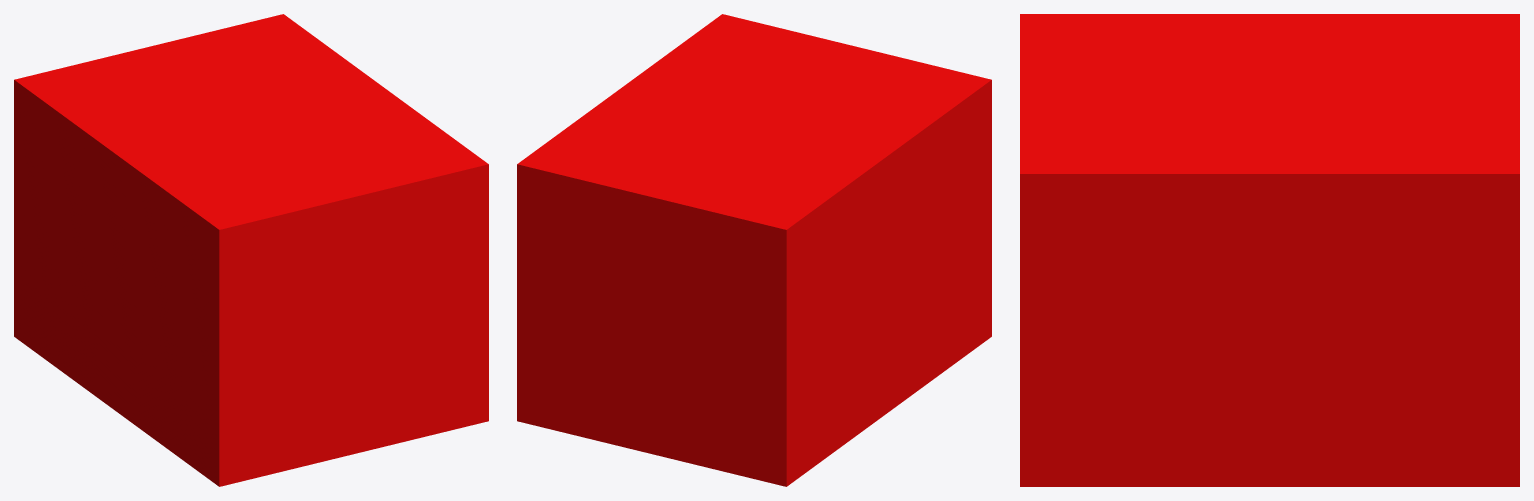
The model's file is MeshPsDresser_219_2_7.obj.
3 renders of one model, left to right at view 1: azimuth 30°, elevation 25°; view 2: azimuth 150°, elevation 25°; view 3: azimuth 270°, elevation 25°, orthographic. The views are drawn at different scales.
Parts seen in each view (by area): view 1: PsDresser_219_2; view 2: PsDresser_219_2; view 3: PsDresser_219_2.
Boxes of the visible parts, <box> form: PsDresser_219_2: <box>14,14,488,486</box>; PsDresser_219_2: <box>517,14,991,486</box>; PsDresser_219_2: <box>1020,14,1519,486</box>.
Bounding box in the file's own units: 0.5595 × 0.5099 × 0.7383.
